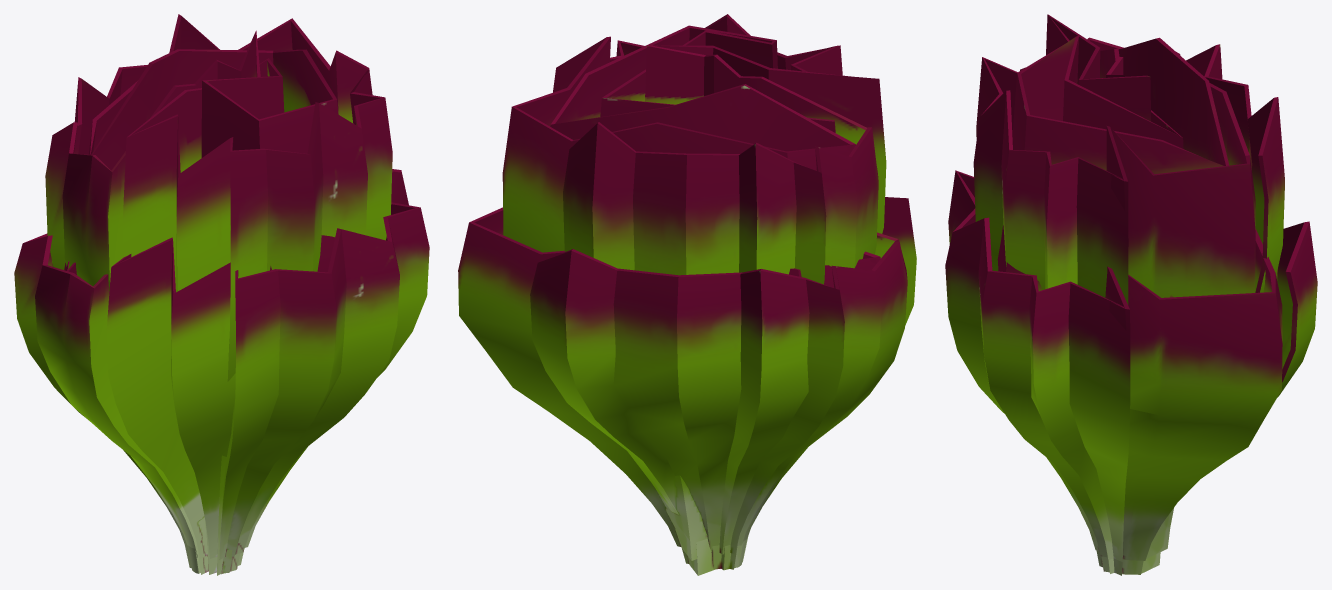
The model's file is Lechuga.fbx.
3 renders of one model, left to right at view 1: azimuth 30°, elevation 25°; view 2: azimuth 150°, elevation 25°; view 3: azimuth 270°, elevation 25°, orthographic.
Parts seen in each view (by area): view 1: LechugaSangria; view 2: LechugaSangria; view 3: LechugaSangria.
Boxes of the visible parts, x1=… form: LechugaSangria: x1=14, y1=14, x2=429, y2=575; LechugaSangria: x1=458, y1=14, x2=916, y2=575; LechugaSangria: x1=945, y1=14, x2=1317, y2=575.
Size of the model in its own units: 18.25 by 24.1 by 15.76.
Materials: 1 (1 with a texture image).
